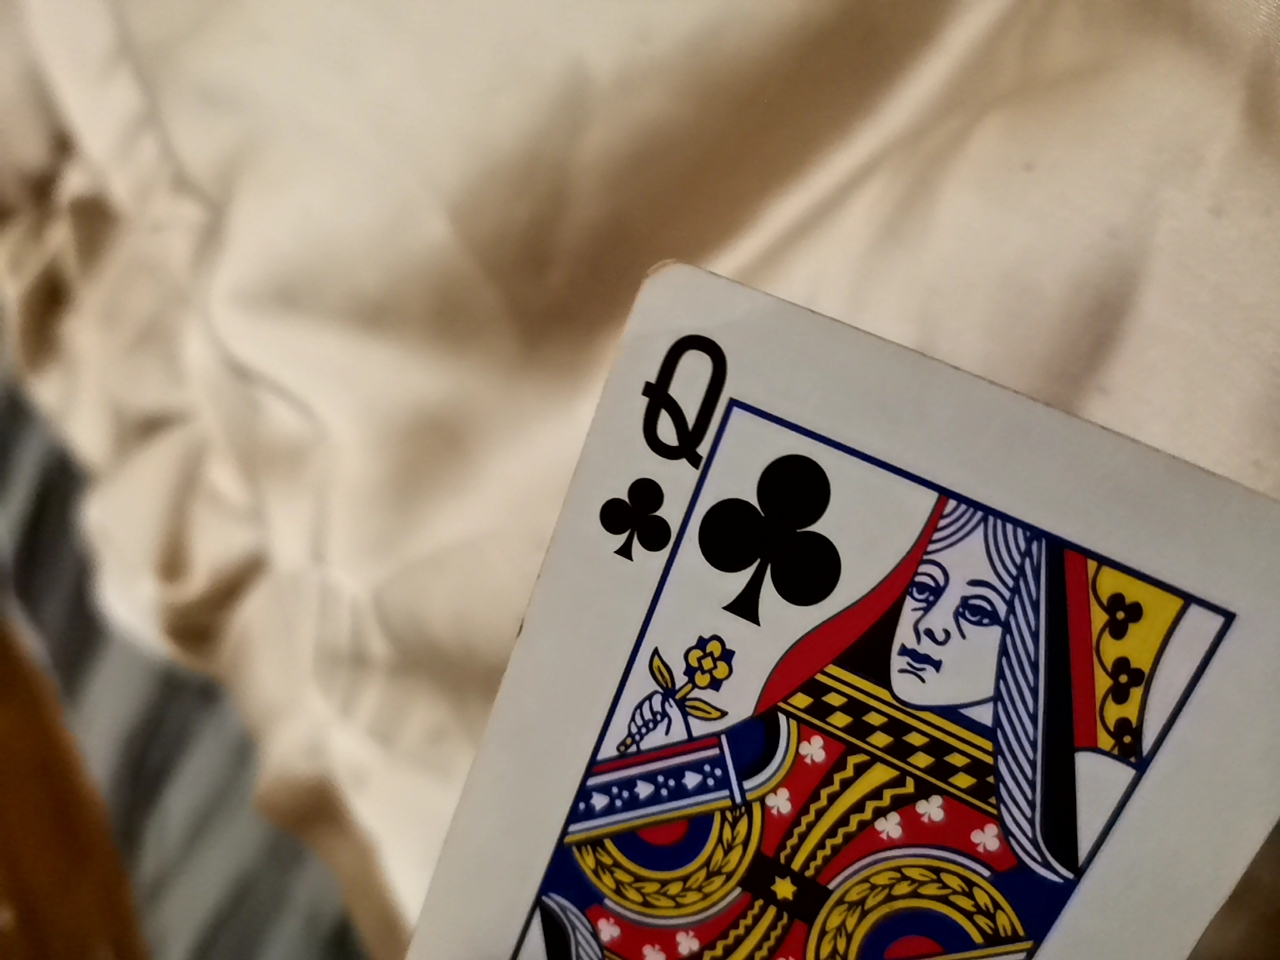mh q: (419, 261, 1275, 954)
